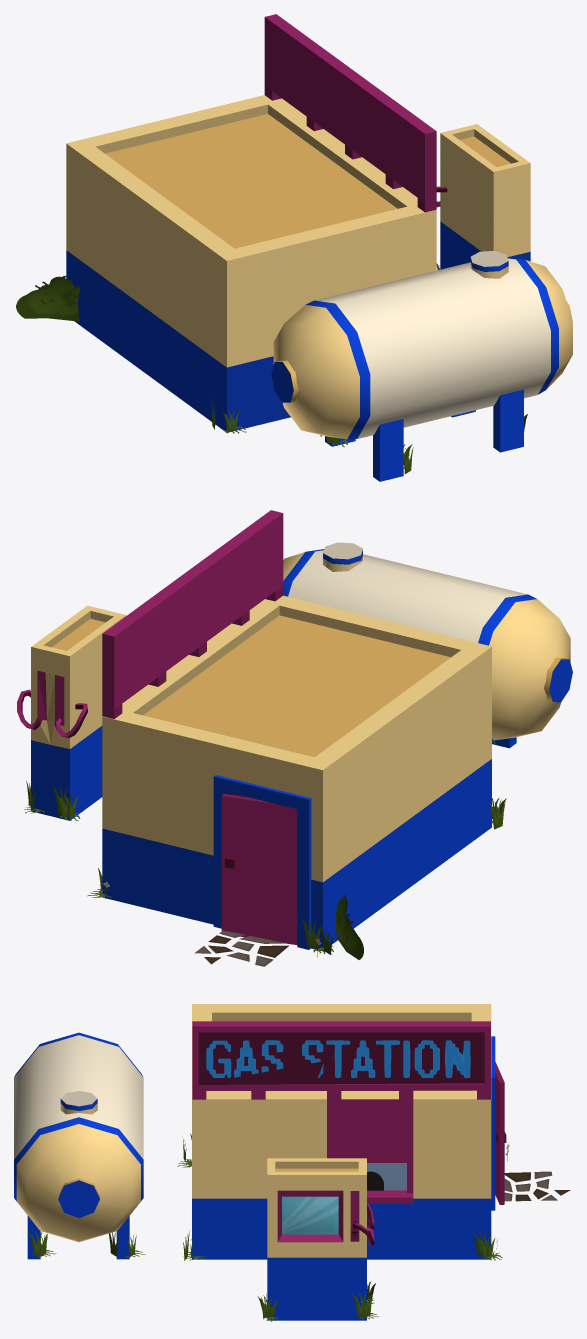
Rendered from Gas_station.fbx.
3 renders of one model, top to bottom at view 1: azimuth 30°, elevation 25°; view 2: azimuth 150°, elevation 25°; view 3: azimuth 270°, elevation 25°, orthographic. The views are drawn at different scales.
Parts seen in each view (by area): view 1: Gas_station; view 2: Gas_station; view 3: Gas_station.
Part boxes in pixels (box(x1,y1,x2,y2)): Gas_station: box(16, 14, 572, 481); Gas_station: box(17, 510, 572, 966); Gas_station: box(14, 1004, 570, 1321).
Bounding box in the file's own units: 544 × 321 × 696.
